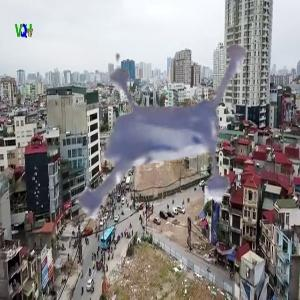drone: (26, 40, 278, 292)
